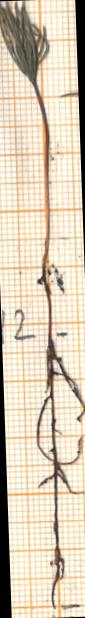flower: (0, 0, 53, 89)
root: (31, 335, 85, 607)
stem: (30, 96, 62, 335)
